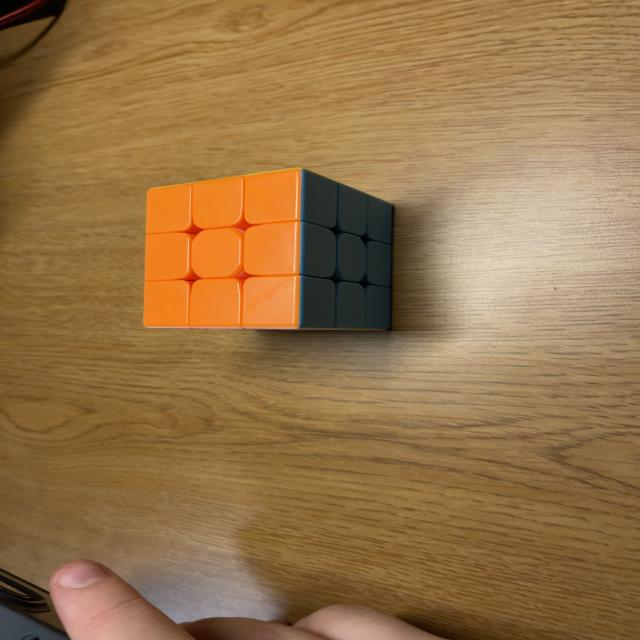Rubiks Cube: (143, 169, 395, 328)
